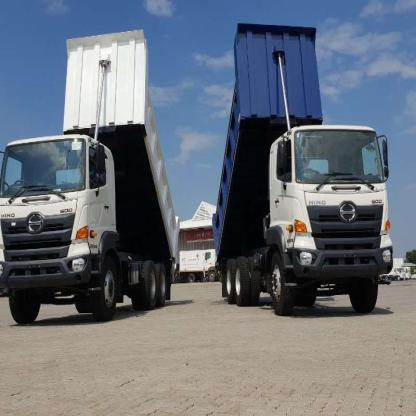dump_truck: (213, 13, 398, 331), (3, 19, 186, 338)
